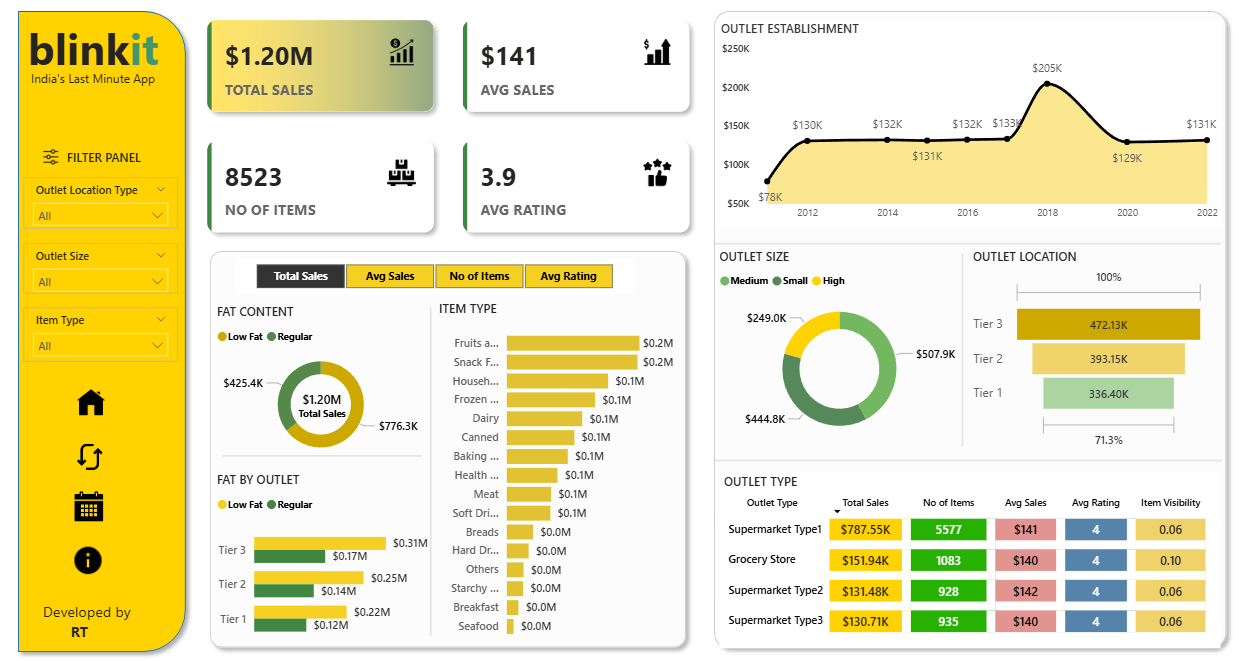

The page's visual inventory and layout, read from the dashboard file:
{"tool":"powerbi","page":{"name":"Page 1","canvas":[1400,800],"ordinal":0},"visuals":[{"type":"shape","box":[30,42.9,204.3,730],"z":0},{"type":"textbox","box":[45.5,55.8,171.6,76.5],"z":1000},{"type":"textbox","box":[47.9,111.4,169.3,30.7],"z":2000},{"type":"cardVisual","fields":{"Data":["BlinkIT Grocery Data.Total Sales","BlinkIT Grocery Data.Avg Sales","BlinkIT Grocery Data.No of Items","BlinkIT Grocery Data.Avg Rating"]},"box":[231.7,45,570,270],"z":3000},{"type":"shape","box":[243.3,310,546.7,458.3],"z":4000},{"type":"donutChart","title":" FAT CONTENT","fields":{"Y":["BlinkIT Grocery Data.Total Sales"],"Category":["BlinkIT Grocery Data.Item Fat Content"]},"box":[255.6,376.7,240,180],"z":5000},{"type":"cardVisual","fields":{"Data":["BlinkIT Grocery Data.Total Sales"]},"box":[331.1,456.7,90,67.8],"z":6000},{"type":"slicer","fields":{"Values":["Metrics.Metrics"]},"box":[278.3,326.7,445,40],"z":7000},{"type":"clusteredBarChart","title":"FAT  BY OUTLET ","fields":{"Y":["BlinkIT Grocery Data.Total Sales"],"Category":["BlinkIT Grocery Data.Outlet Location Type"],"Series":["BlinkIT Grocery Data.Item Fat Content"]},"box":[255,563.8,243.8,200],"z":8000},{"type":"shape","box":[266.4,523.6,220,46.4],"z":9000},{"type":"shape","box":[476.7,381.7,41.7,365],"z":10000},{"type":"shape","box":[802.9,42.9,587.1,725.7],"z":12000},{"type":"lineChart","title":" OUTLET  ESTABLISHMENT","fields":{"Y":["BlinkIT Grocery Data.Total Sales"],"Category":["BlinkIT Grocery Data.Outlet Establishment Year"]},"box":[815,61.7,561.7,231.7],"z":13000},{"type":"shape","box":[813.3,283.3,561.7,55],"z":14000},{"type":"donutChart","title":" OUTLET SIZE","fields":{"Y":["BlinkIT Grocery Data.Total Sales"],"Category":["BlinkIT Grocery Data.Outlet Size"]},"box":[812.9,315.7,275.7,224.3],"z":15000},{"type":"shape","box":[1081.7,321.7,13.3,215],"z":16000},{"type":"funnel","title":" OUTLET LOCATION ","fields":{"Y":["Sum(BlinkIT Grocery Data.Sales)"],"Category":["BlinkIT Grocery Data.Outlet Location Type"]},"box":[1095.7,315.7,267.1,228.6],"z":17000},{"type":"shape","box":[813.3,523.3,563.3,56.7],"z":18000},{"type":"pivotTable","title":"OUTLET TYPE","fields":{"Rows":["BlinkIT Grocery Data.Outlet Type"],"Values":["BlinkIT Grocery Data.Total Sales","BlinkIT Grocery Data.No of Items","BlinkIT Grocery Data.Avg Sales","BlinkIT Grocery Data.Avg Rating","Avg(BlinkIT Grocery Data.Item Visibility)"]},"box":[818.3,565,556.7,195],"z":19000},{"type":"slicer","fields":{"Values":["BlinkIT Grocery Data.Outlet Location Type"]},"box":[45,237,171,57],"z":20000},{"type":"slicer","fields":{"Values":["BlinkIT Grocery Data.Outlet Size"]},"box":[45,310,171,56],"z":21000},{"type":"slicer","fields":{"Values":["BlinkIT Grocery Data.Item Type"]},"box":[45,382,171,60],"z":22000},{"type":"barChart","title":"ITEM TYPE","fields":{"Y":["BlinkIT Grocery Data.Total Sales"],"Category":["BlinkIT Grocery Data.Item Type"]},"box":[501.4,372.9,270,384.3],"z":22001},{"type":"textbox","box":[88,200,128,28],"z":22002},{"type":"image","box":[61,200,27,28],"z":22003},{"type":"image","box":[90,525,56.7,45],"z":22004},{"type":"image","box":[91.7,466.7,56.7,41.7],"z":22005},{"type":"image","box":[95,580,45,46.7],"z":22006},{"type":"image","box":[88.3,638.3,56.7,48.3],"z":22007},{"type":"textbox","box":[61.7,703.3,118.3,55],"z":22008}]}

Visuals, with their boxes on the page's 1400x800 design canvas (x1, y1, x2, y2). These are canvas units, not pixel positions in the 1239x661 screenshot, which may show the page scaled, cropped or inside an application window:
shape: (30, 43, 234, 773)
textbox: (46, 56, 217, 132)
textbox: (48, 111, 217, 142)
cardVisual - BlinkIT Grocery Data.Total Sales x BlinkIT Grocery Data.Avg Sales: (232, 45, 802, 315)
shape: (243, 310, 790, 768)
" FAT CONTENT" donutChart: (256, 377, 496, 557)
cardVisual - BlinkIT Grocery Data.Total Sales: (331, 457, 421, 524)
slicer - Metrics.Metrics: (278, 327, 723, 367)
"FAT  BY OUTLET " clusteredBarChart: (255, 564, 499, 764)
shape: (266, 524, 486, 570)
shape: (477, 382, 518, 747)
shape: (803, 43, 1390, 769)
" OUTLET  ESTABLISHMENT" lineChart: (815, 62, 1377, 293)
shape: (813, 283, 1375, 338)
" OUTLET SIZE" donutChart: (813, 316, 1089, 540)
shape: (1082, 322, 1095, 537)
" OUTLET LOCATION " funnel: (1096, 316, 1363, 544)
shape: (813, 523, 1377, 580)
"OUTLET TYPE" pivotTable: (818, 565, 1375, 760)
slicer - BlinkIT Grocery Data.Outlet Location Type: (45, 237, 216, 294)
slicer - BlinkIT Grocery Data.Outlet Size: (45, 310, 216, 366)
slicer - BlinkIT Grocery Data.Item Type: (45, 382, 216, 442)
"ITEM TYPE" barChart: (501, 373, 771, 757)
textbox: (88, 200, 216, 228)
image: (61, 200, 88, 228)
image: (90, 525, 147, 570)
image: (92, 467, 148, 508)
image: (95, 580, 140, 627)
image: (88, 638, 145, 687)
textbox: (62, 703, 180, 758)
